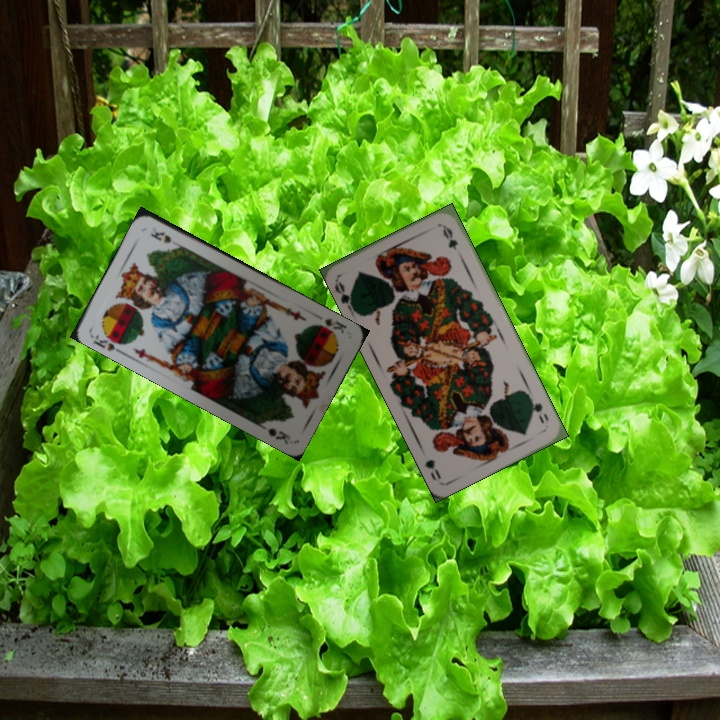GO: (331, 277, 360, 316), (525, 392, 551, 426)
SK: (89, 327, 129, 356), (320, 314, 349, 336)
